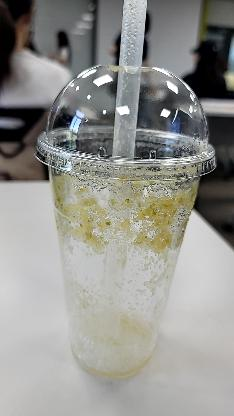Plastic Cup: (36, 58, 226, 392), (35, 60, 217, 180), (96, 0, 152, 356)
